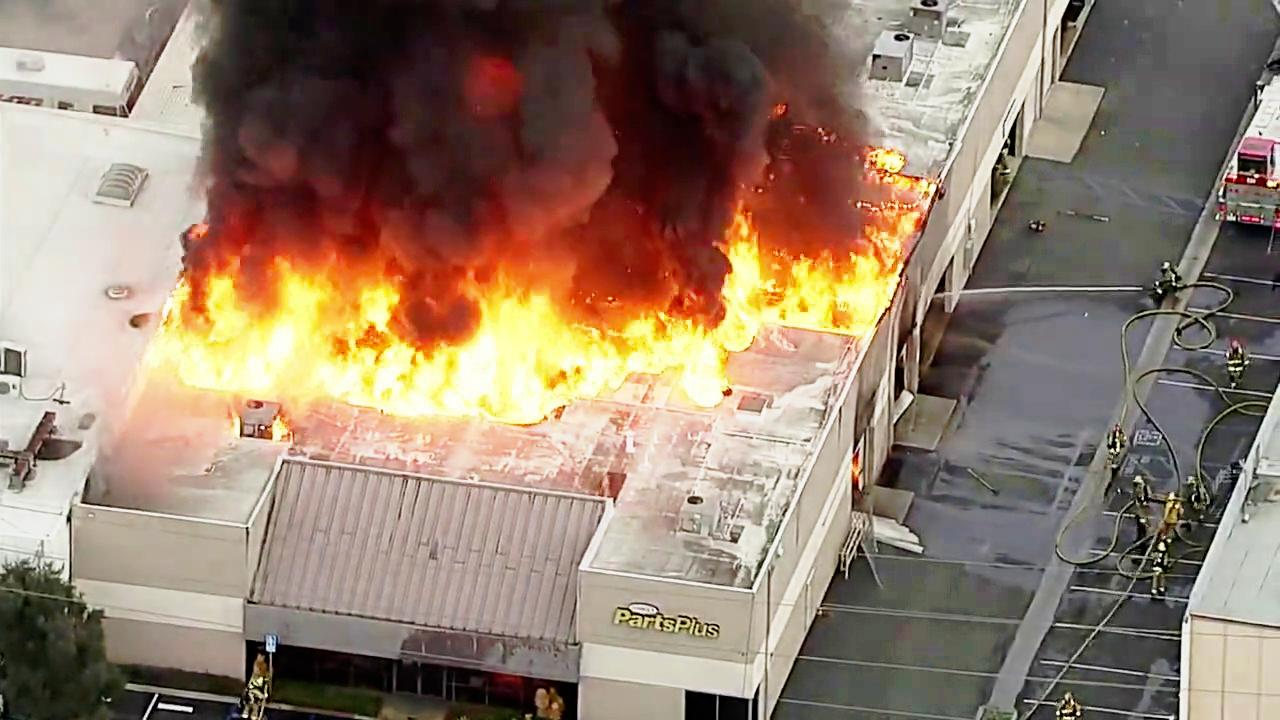fire: (547, 265, 770, 406), (337, 284, 564, 402), (159, 264, 315, 399), (715, 245, 889, 338)
smoke: (237, 7, 811, 238)
